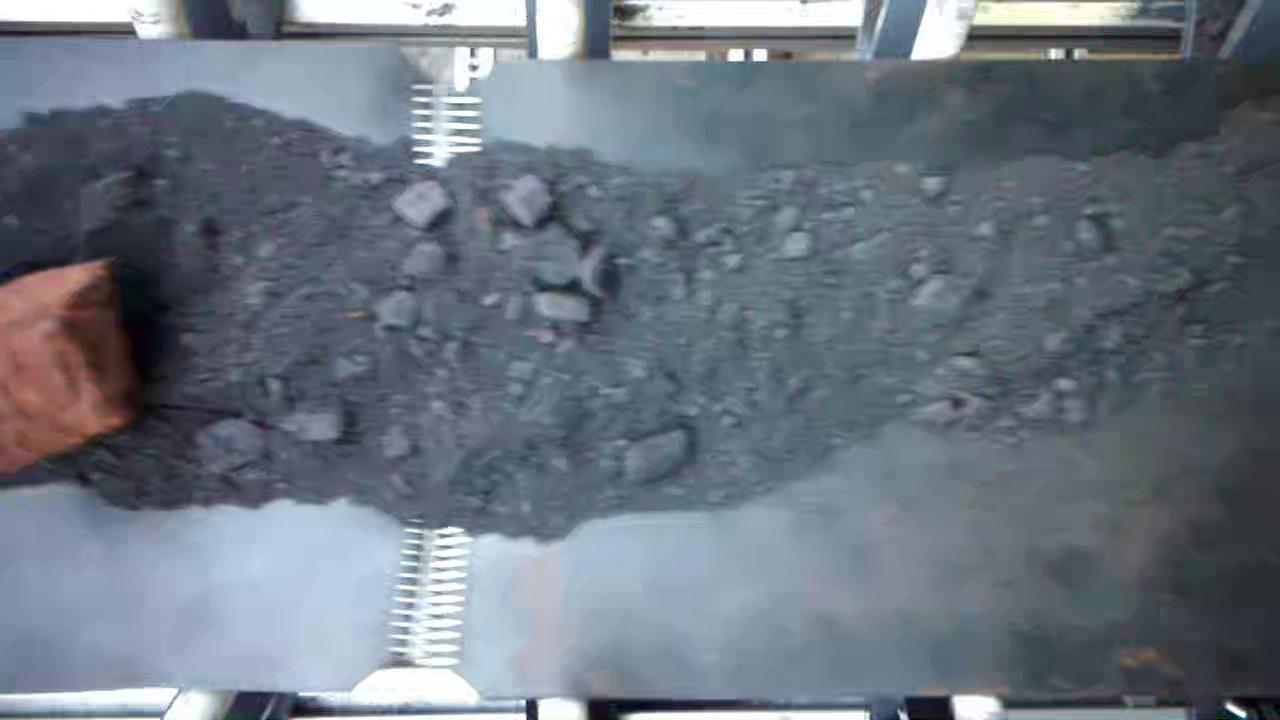conveyor: (3, 63, 1280, 687)
